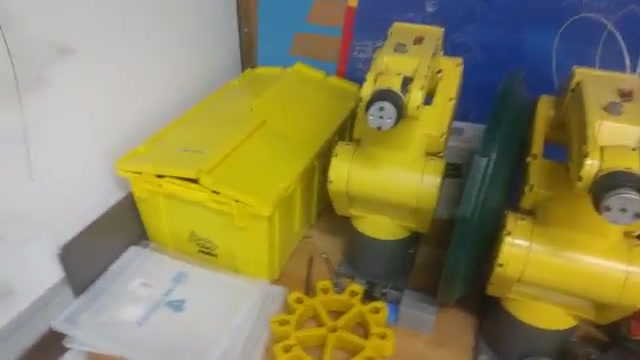gear: (269, 285, 394, 360)
